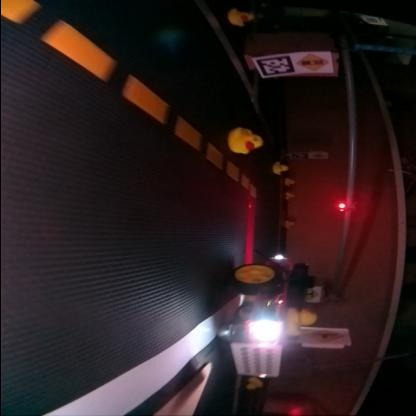Duckie: (228, 128, 262, 152), (284, 308, 314, 334), (228, 8, 255, 24), (273, 162, 289, 174)
Duckiebot: (224, 260, 314, 376)
Intersection sign: (308, 329, 344, 342)
QR code: (257, 54, 292, 74)
Signal sign: (296, 51, 328, 71)
Traffic light: (336, 198, 352, 210)
